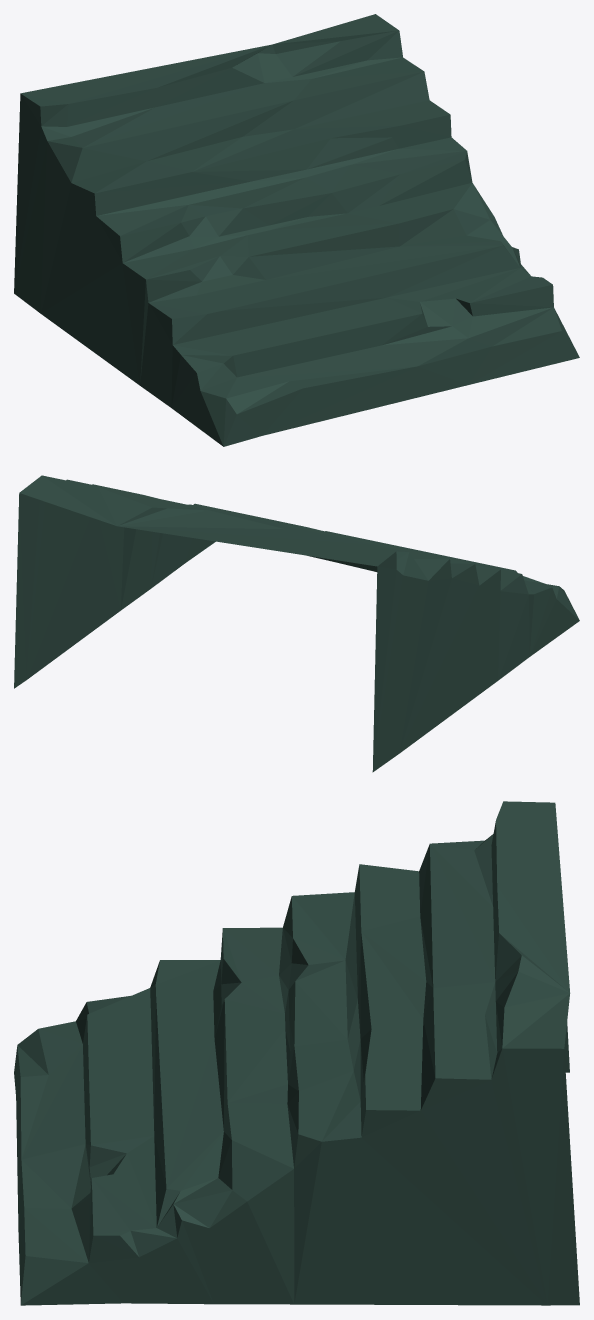
The model's file is Stairs_01.FBX.
The picture shows the model from 3 angles, top to bottom: view 1: azimuth 30°, elevation 25°; view 2: azimuth 150°, elevation 25°; view 3: azimuth 270°, elevation 25°; orthographic projection. The views are drawn at different scales.
Visible parts, largest first — view 1: Stairs_01; view 2: Stairs_01; view 3: Stairs_01.
Boxes of the visible parts, x1,y1,x2,y2 form: Stairs_01: [14, 14, 579, 446]; Stairs_01: [14, 475, 579, 772]; Stairs_01: [14, 801, 579, 1305].
Size of the model in its own units: 4.96 by 2.71 by 5.09.
